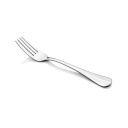Fork: (13, 31, 128, 98)
